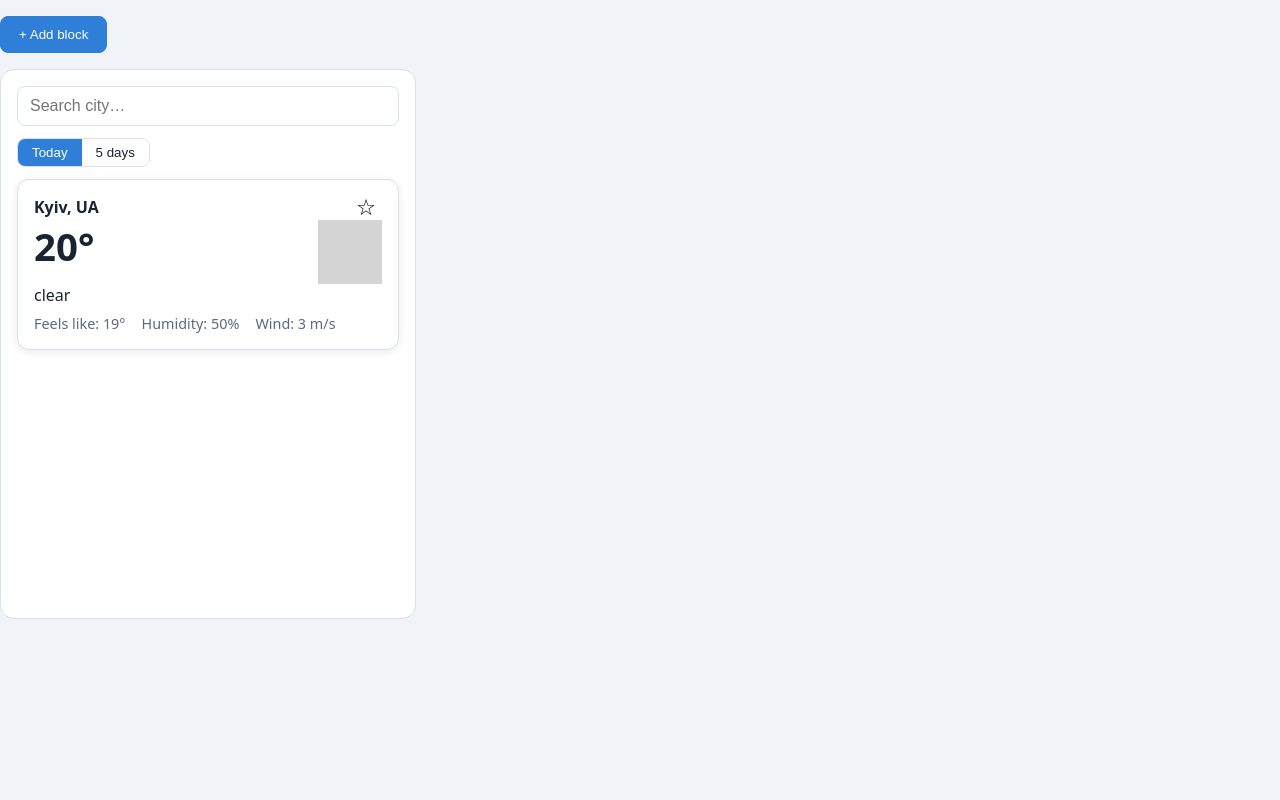
HomeTab › adds blocks up to 5 then disables the button
Click the button "+ Add block". click: (54, 34)
box: [0,16,107,53]
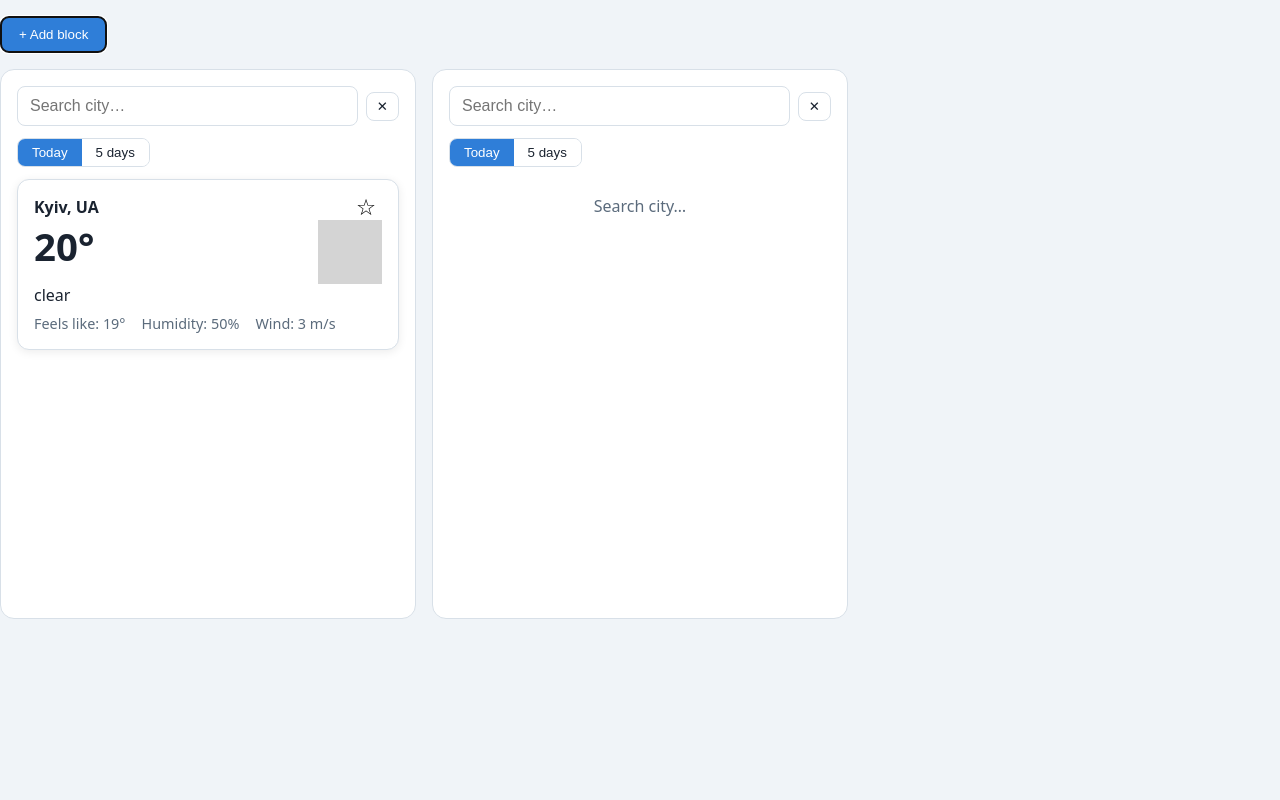
Click the button "+ Add block". click: (54, 34)
box: [0,16,107,53]
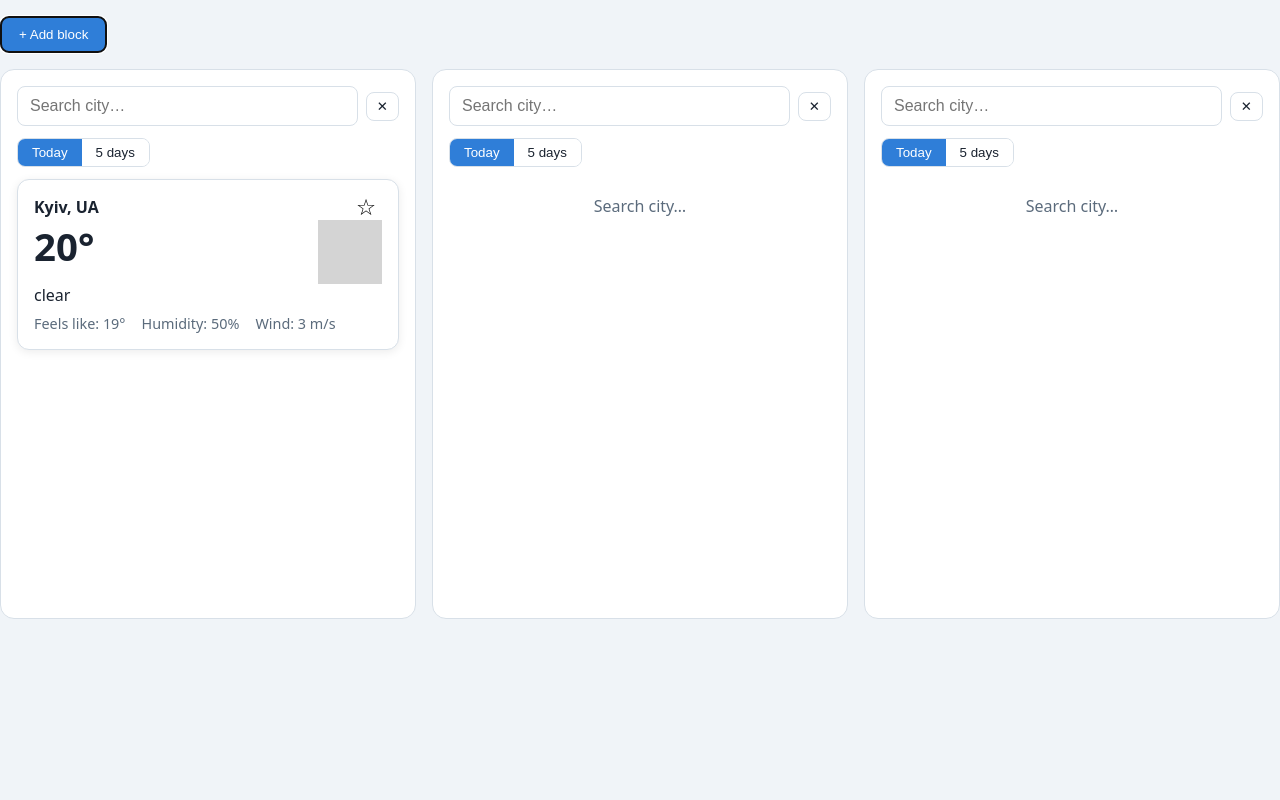
Click the button "+ Add block". click: (54, 34)
box: [0,16,107,53]
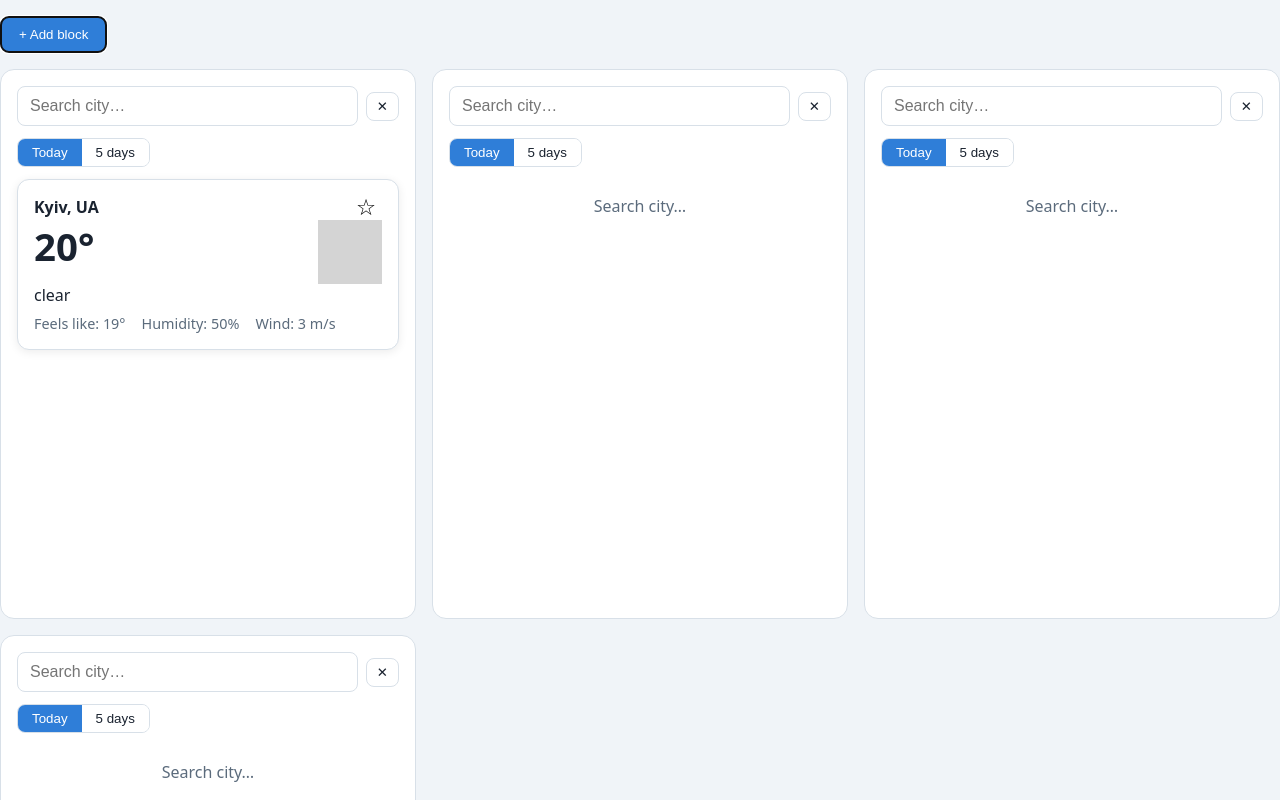
Click the button "+ Add block". click: (54, 34)
box: [0,16,107,53]
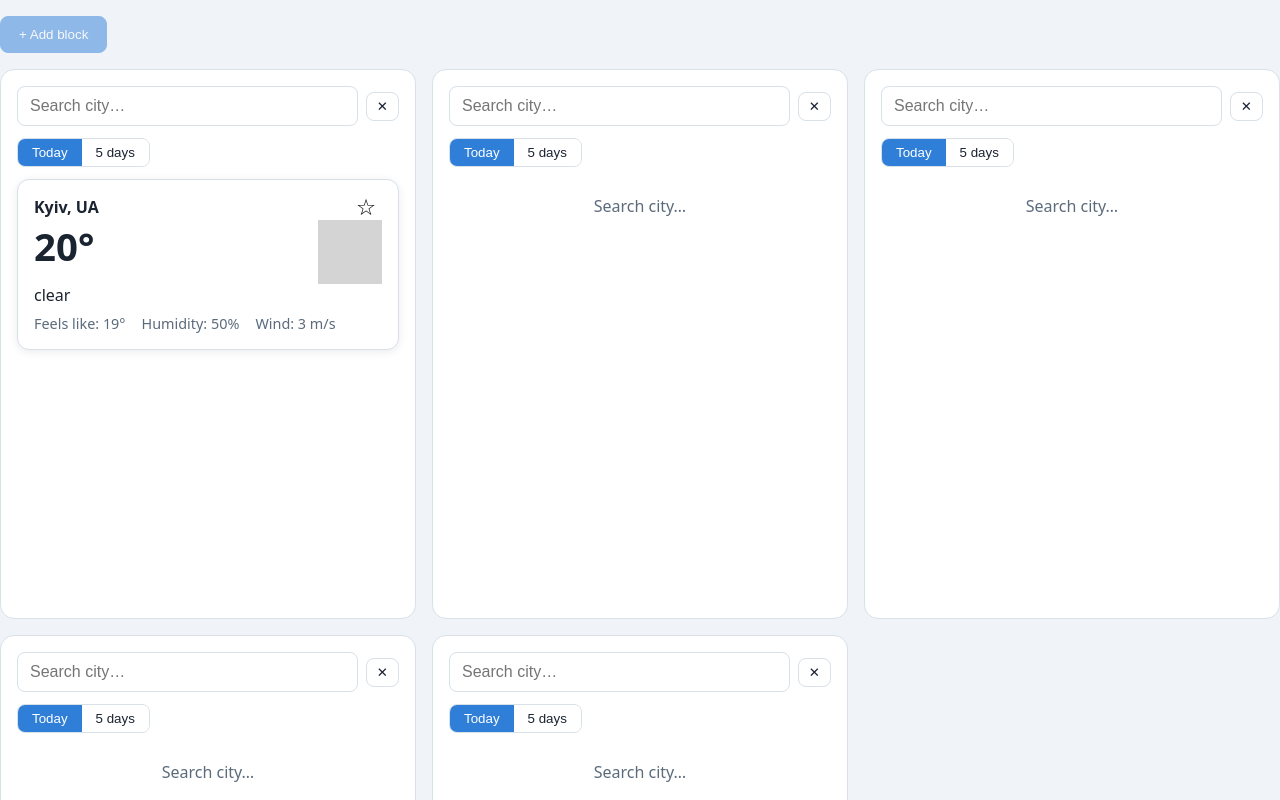
Result: the button "+ Add block" is disabled at [0,16,107,53]
